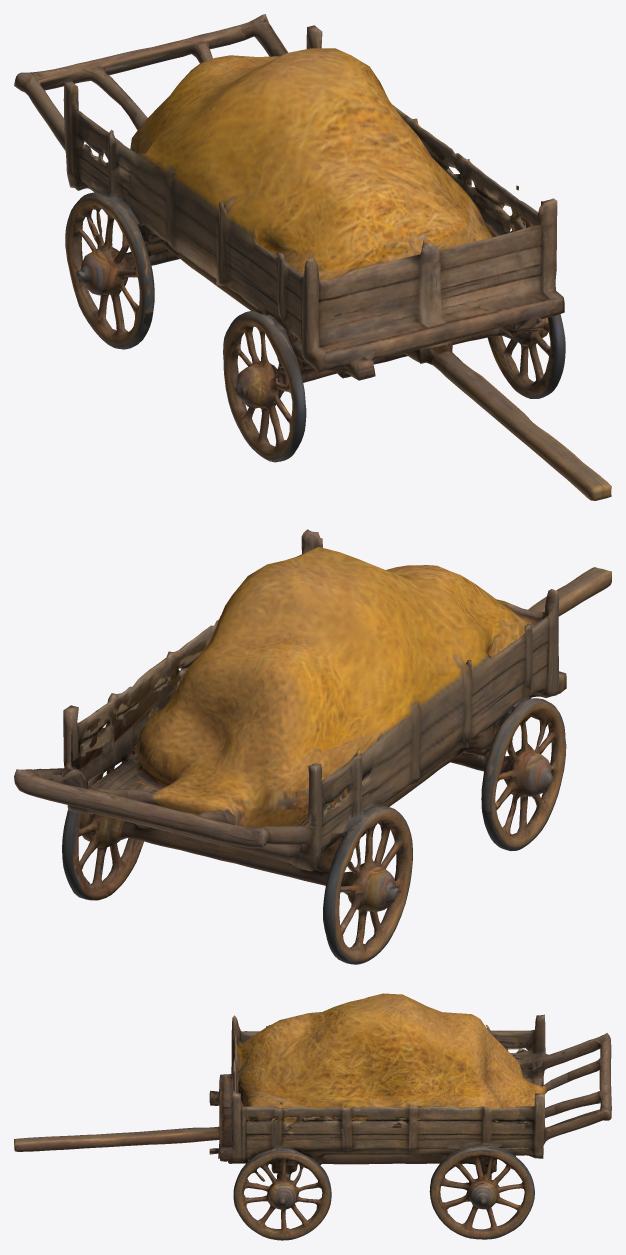
The model's file is o58_saman_arabasi.glb.
3 renders of one model, top to bottom at view 1: azimuth 30°, elevation 25°; view 2: azimuth 150°, elevation 25°; view 3: azimuth 270°, elevation 25°, orthographic. The views are drawn at different scales.
Size of the model in its own units: 0.7872 by 0.7223 by 2.
1 material, 1 textured.
